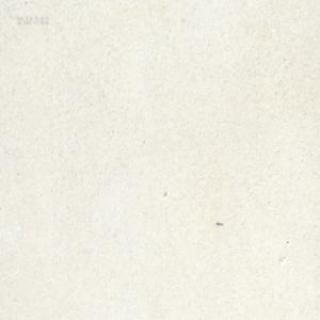Nailtrack_idkeyframe: (216, 218, 223, 223)
